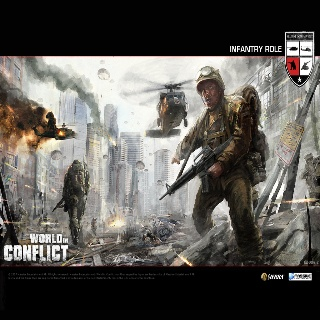rifle: (158, 130, 234, 205)
